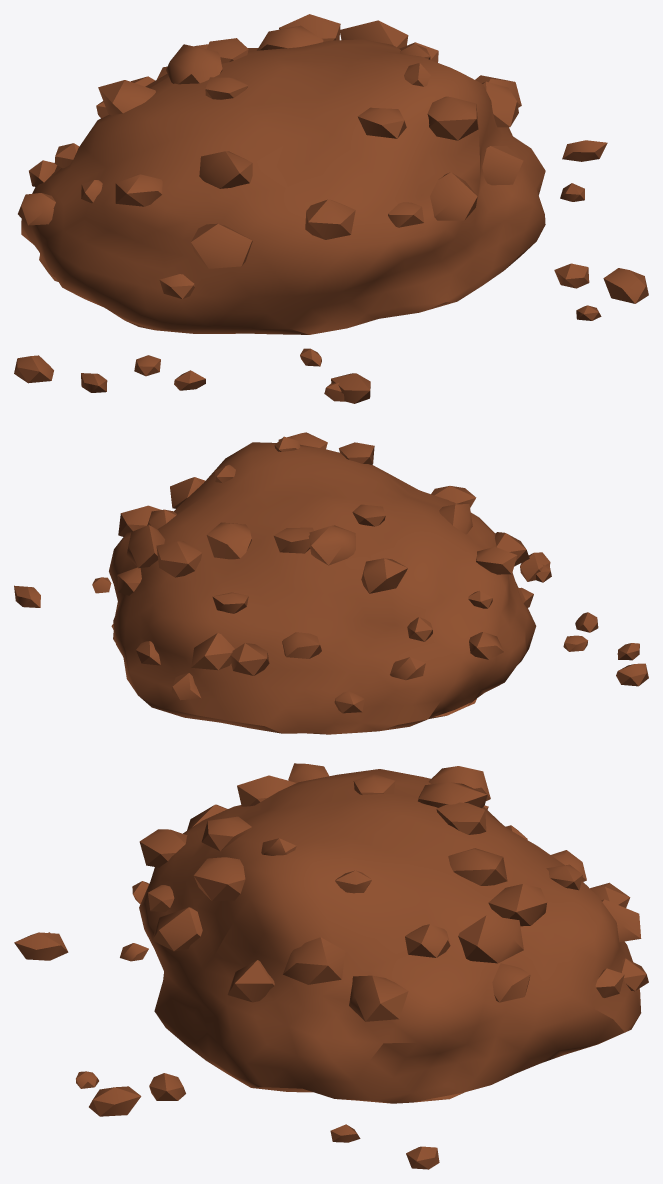
Rendered from nomad_mine_yard_decor.fbx.
3 renders of one model, top to bottom at view 1: azimuth 30°, elevation 25°; view 2: azimuth 150°, elevation 25°; view 3: azimuth 270°, elevation 25°, orthographic. The views are drawn at different scales.
Parts seen in each view (by area): view 1: C__OrePile_Rust__01; view 2: C__OrePile_Rust__01; view 3: C__OrePile_Rust__01.
Part boxes in pixels (x1,y1,x2,y2): C__OrePile_Rust__01: [14, 14, 648, 403]; C__OrePile_Rust__01: [14, 432, 648, 734]; C__OrePile_Rust__01: [14, 763, 648, 1169].
Bounding box in the file's own units: 396 × 115 × 316.
